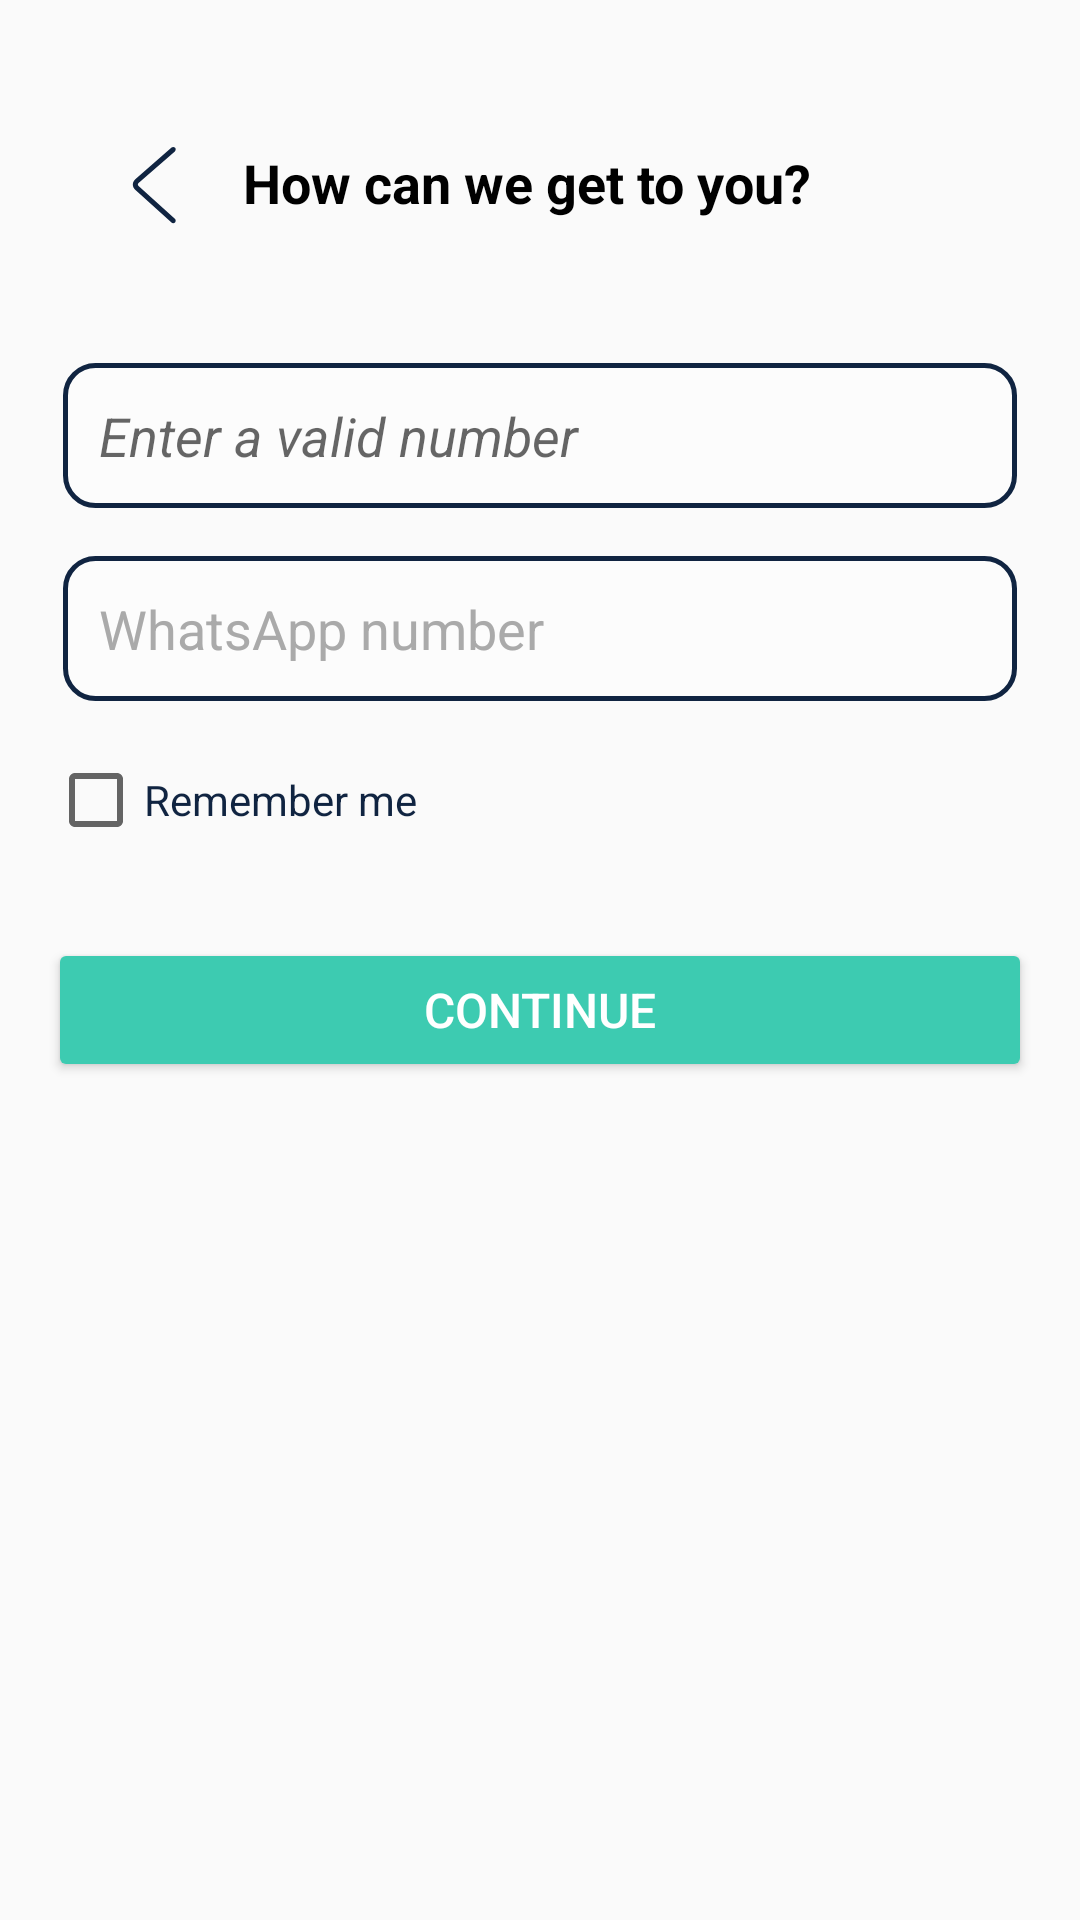

Screen size 1080x1920. Icon name, then its box in pixels as (x1, y1, x2, y2):
Back: (132, 147, 176, 224)
